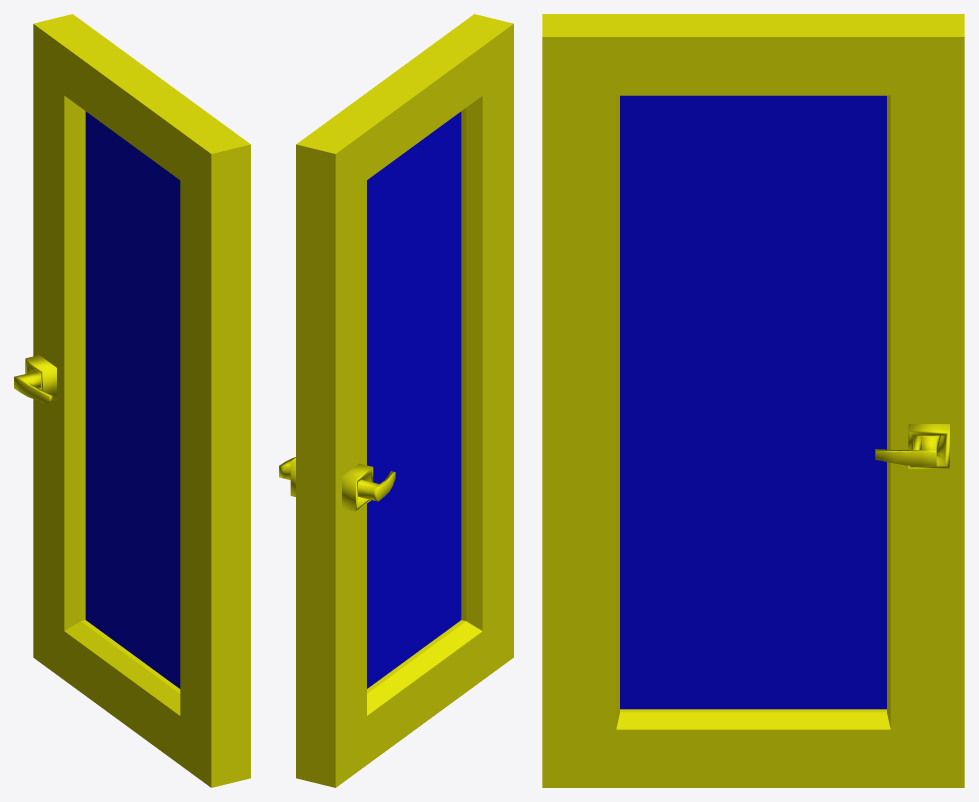
Rendered from Glass Door.fbx.
The picture shows the model from 3 angles, left to right: view 1: azimuth 30°, elevation 25°; view 2: azimuth 150°, elevation 25°; view 3: azimuth 270°, elevation 25°; orthographic projection. The views are drawn at different scales.
Visible parts, largest first — view 1: glass_pane; view 2: glass_pane; view 3: glass_pane.
Boxes of the visible parts, x1=… form: glass_pane: x1=14, y1=14, x2=250, y2=787; glass_pane: x1=279, y1=14, x2=513, y2=787; glass_pane: x1=542, y1=14, x2=964, y2=787.
Bounding box in the file's own units: 35.97 × 219 × 112.
